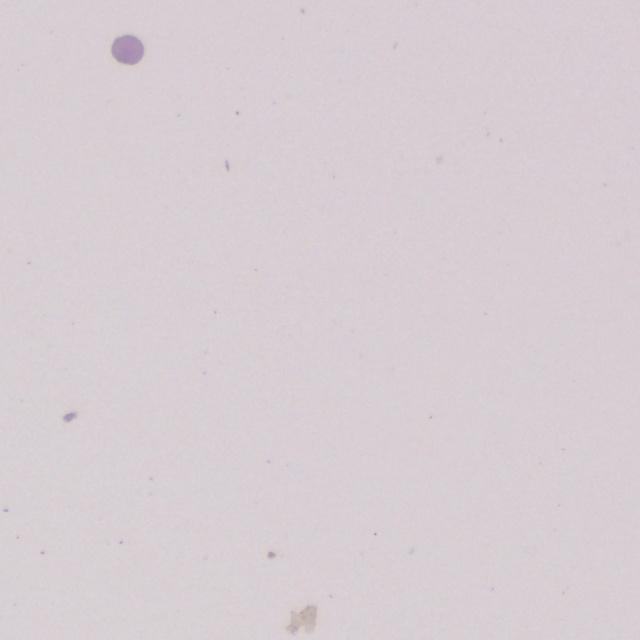non_viable: (111, 35, 143, 64)
